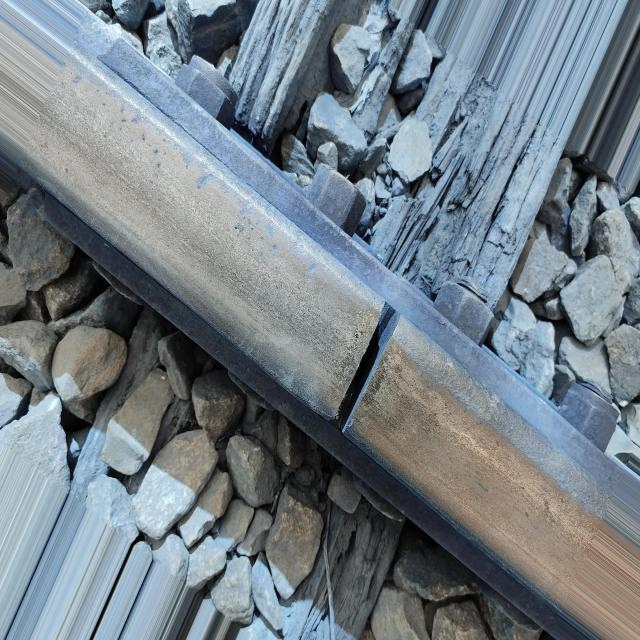crack: (308, 270, 422, 476)
